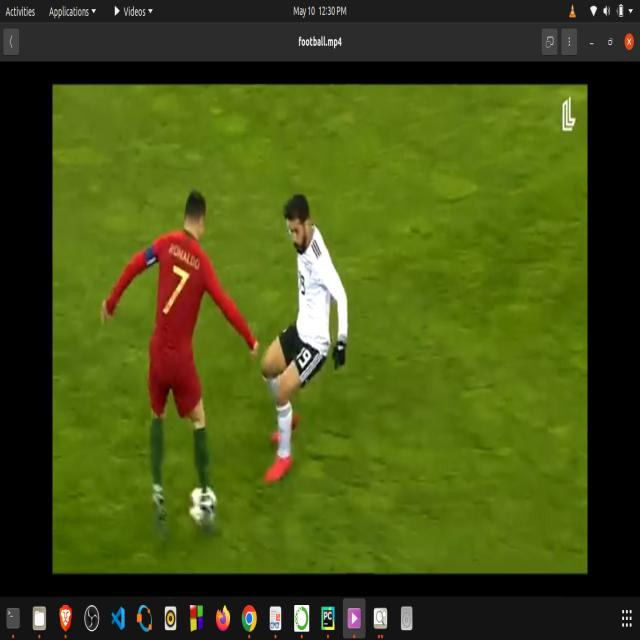Ball: (186, 478, 223, 539)
football-players: (130, 168, 234, 544), (258, 172, 355, 486)
